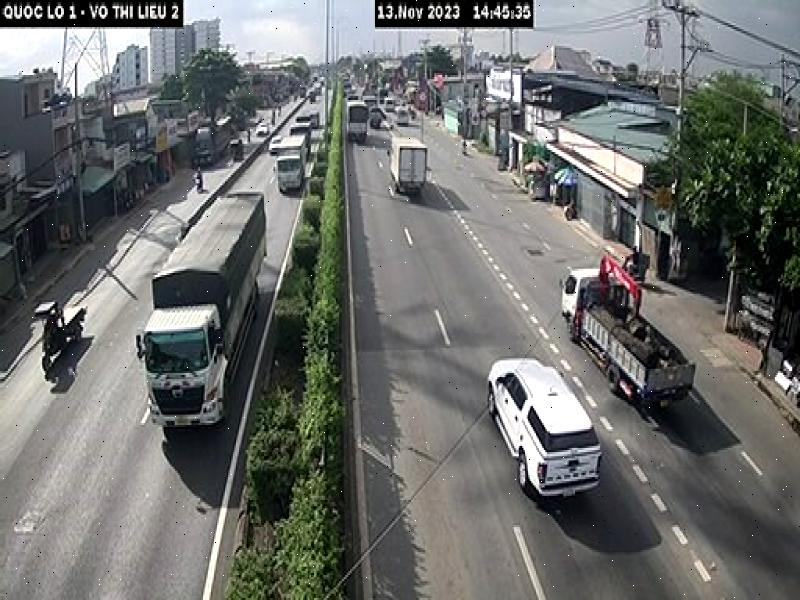truck: (136, 183, 268, 430), (562, 250, 699, 414)
